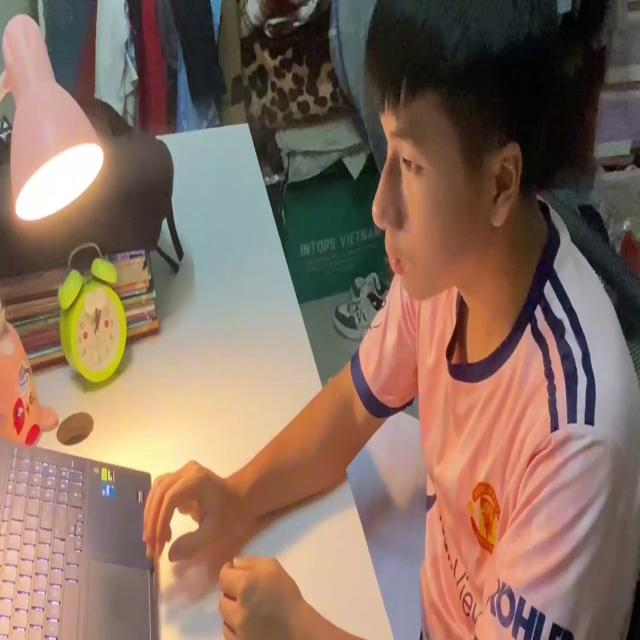book: (330, 379, 435, 640)
laptop: (1, 428, 157, 640)
student: (144, 0, 640, 640)
